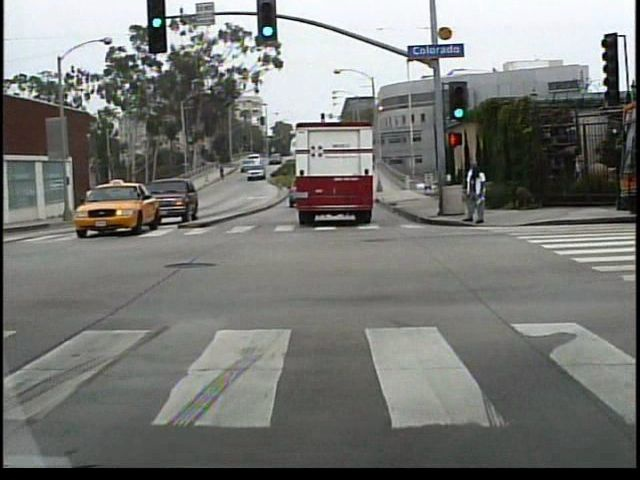person: (462, 161, 489, 227)
